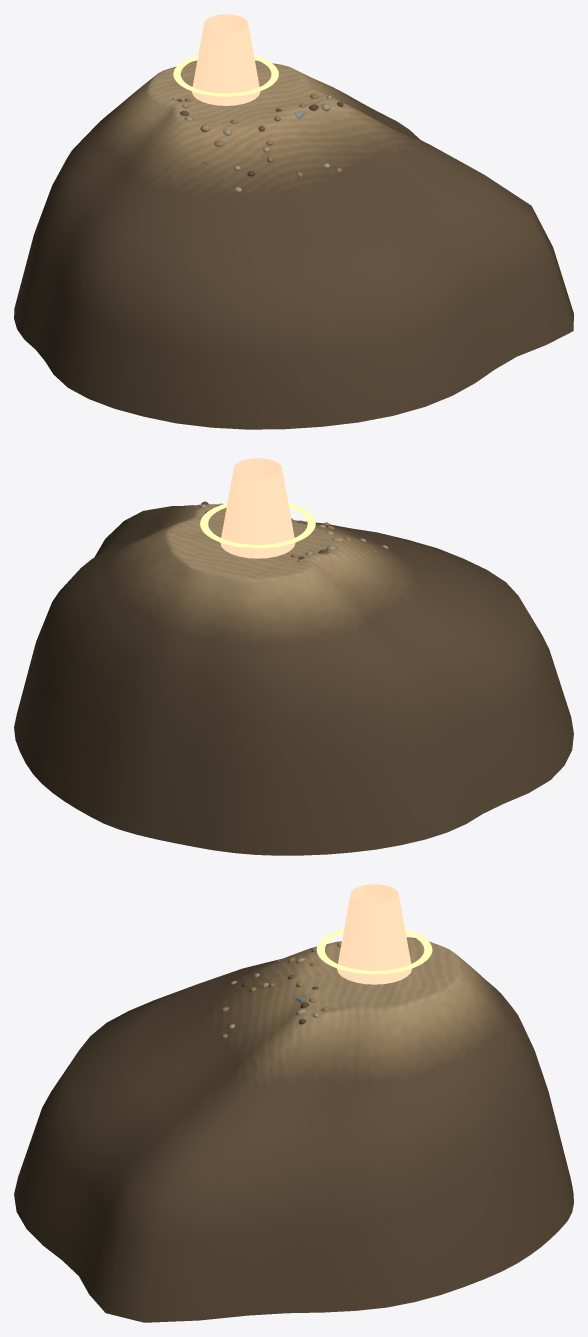
Rendered from shore_piece.glb.
3 renders of one model, top to bottom at view 1: azimuth 30°, elevation 25°; view 2: azimuth 150°, elevation 25°; view 3: azimuth 270°, elevation 25°, orthographic. The views are drawn at different scales.
Parts seen in each view (by area): view 1: ShoreBank, Shaft, Reach; view 2: ShoreBank, Shaft, Reach; view 3: ShoreBank, Shaft, Reach.
Part boxes in pixels (left/top/right/bottom): ShoreBank: left=14, top=60, right=573, bottom=429; Shaft: left=192, top=14, right=260, bottom=105; Reach: left=173, top=55, right=278, bottom=96; ShoreBank: left=14, top=501, right=573, bottom=855; Shaft: left=220, top=458, right=295, bottom=558; Reach: left=200, top=503, right=315, bottom=548; ShoreBank: left=14, top=937, right=573, bottom=1322; Shaft: left=337, top=884, right=412, bottom=984; Reach: left=316, top=929, right=432, bottom=974.
Bounding box in the file's own units: 42.87 × 24.5 × 41.65.
2 materials, 1 textured.
